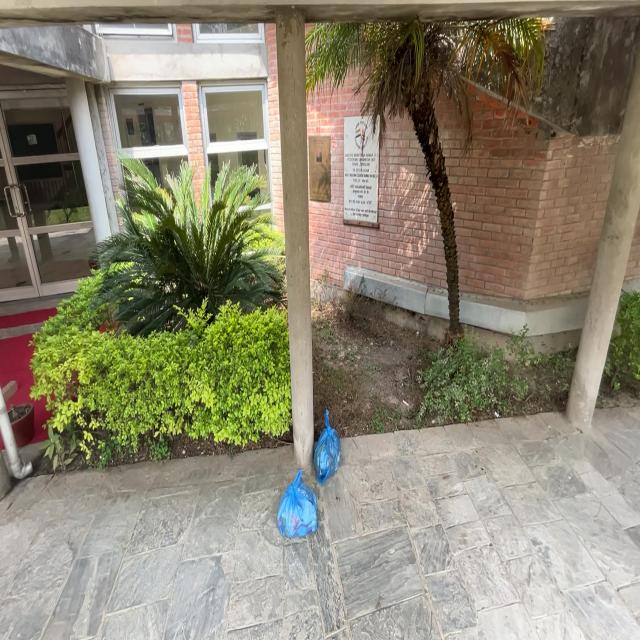garbage: (272, 476, 317, 556), (306, 432, 348, 492)
